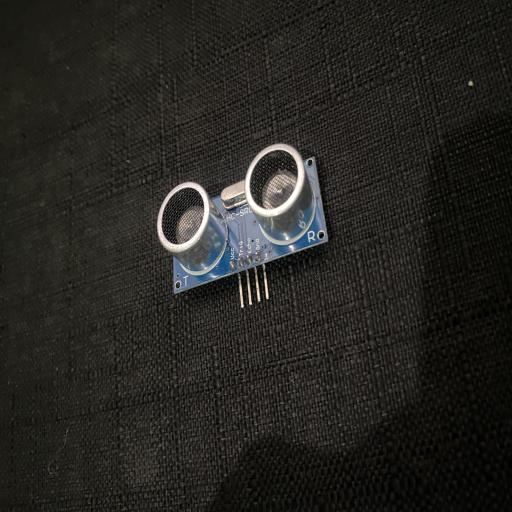Ultrasonic Sensor: (157, 143, 329, 310)
